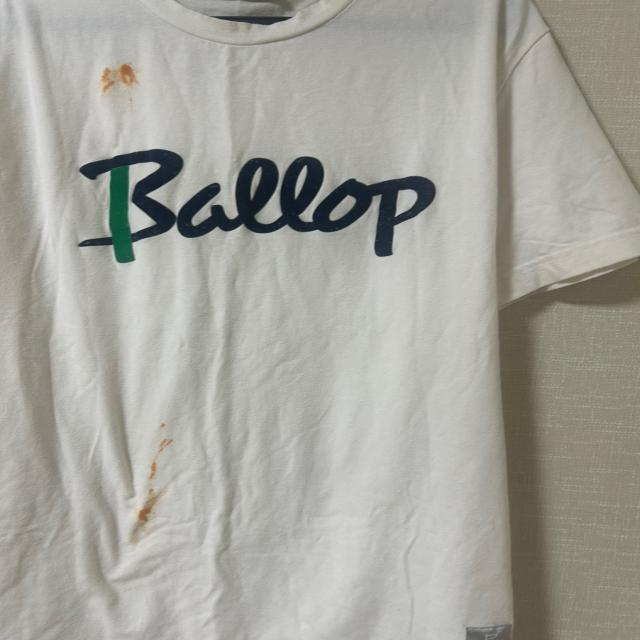stain: (97, 52, 139, 94), (146, 437, 170, 479), (140, 488, 166, 523), (155, 415, 168, 429)
